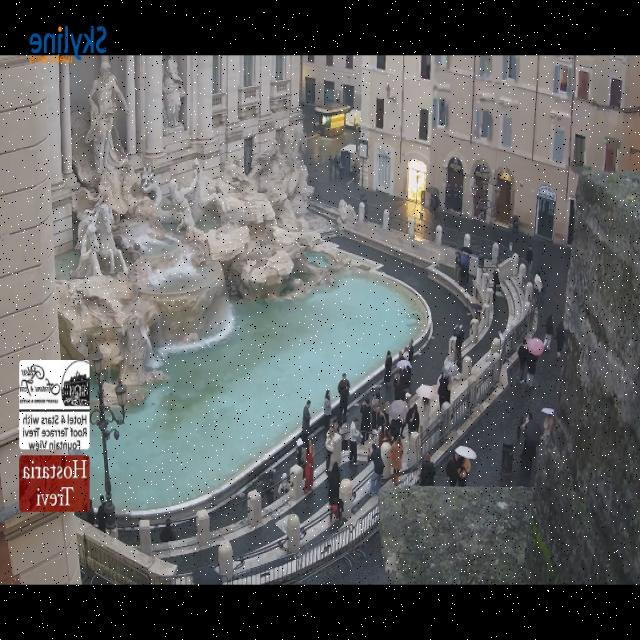person: (521, 413, 542, 471), (328, 463, 342, 524), (368, 443, 383, 496), (390, 437, 402, 485), (337, 373, 349, 421), (348, 418, 360, 463), (524, 350, 537, 391), (404, 403, 419, 437), (260, 470, 274, 505), (419, 453, 434, 485), (304, 440, 313, 492), (517, 338, 527, 384), (360, 398, 370, 442), (324, 426, 333, 474), (370, 392, 381, 431), (445, 453, 457, 487), (437, 375, 449, 409), (453, 324, 463, 361), (457, 457, 469, 487), (388, 419, 403, 442), (160, 519, 175, 542), (533, 271, 542, 308), (420, 398, 431, 428), (337, 422, 348, 451), (460, 252, 469, 287), (392, 371, 403, 399), (323, 390, 331, 428), (302, 400, 309, 443), (399, 370, 409, 399), (544, 315, 552, 350), (96, 496, 104, 531), (377, 425, 389, 448), (384, 351, 391, 389), (556, 322, 563, 357), (278, 472, 288, 495), (86, 498, 94, 525), (525, 245, 531, 279), (296, 438, 303, 467), (382, 402, 389, 429), (492, 270, 499, 297), (454, 251, 460, 282), (328, 155, 334, 180), (352, 160, 358, 185), (407, 339, 412, 364), (333, 153, 338, 178), (338, 156, 343, 177), (404, 392, 410, 408)
